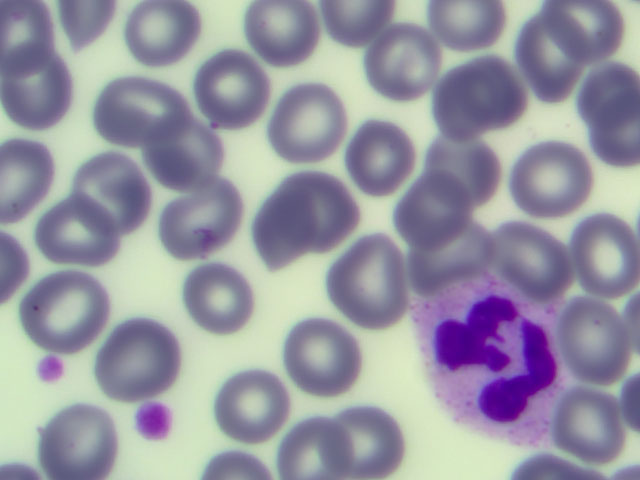Platelets: (140, 402, 167, 440), (40, 355, 65, 388)
RBC: (422, 133, 501, 212), (562, 298, 632, 385), (95, 83, 187, 149), (330, 241, 403, 319), (273, 414, 359, 480), (75, 151, 143, 229), (279, 179, 358, 245), (100, 324, 176, 392), (277, 83, 343, 161), (490, 224, 569, 289), (517, 145, 592, 212), (165, 187, 240, 253), (8, 53, 73, 129), (296, 317, 362, 391), (574, 218, 640, 292), (519, 13, 573, 103), (200, 53, 262, 131), (33, 277, 104, 345), (330, 413, 403, 479), (546, 1, 631, 56), (367, 32, 435, 99), (49, 408, 116, 476), (189, 264, 254, 334), (218, 376, 287, 440), (405, 177, 466, 249), (463, 55, 522, 127), (48, 199, 114, 262), (354, 124, 412, 193), (582, 64, 640, 132), (560, 391, 623, 453), (410, 227, 486, 278), (259, 191, 312, 264), (591, 94, 640, 172), (250, 6, 311, 68), (1, 143, 48, 222), (130, 1, 194, 53), (439, 74, 488, 138), (1, 3, 52, 64), (317, 1, 385, 45), (429, 1, 490, 47), (204, 447, 275, 480), (57, 1, 108, 43), (1, 231, 19, 305)
WBC: (418, 282, 558, 445)
